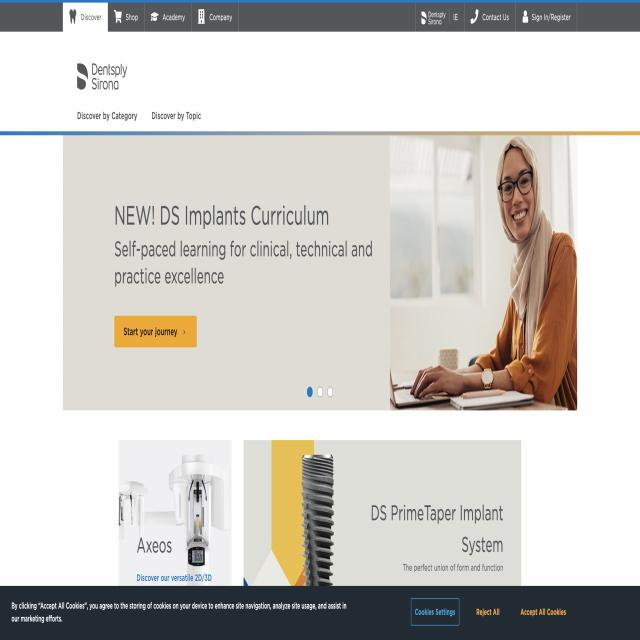Logo: (68, 48, 140, 106)
Navigation: (67, 3, 577, 34)
